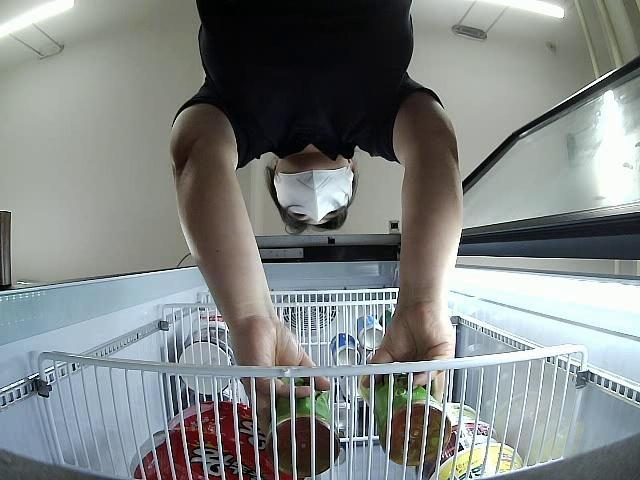19_17cha: (364, 374, 452, 467), (266, 376, 342, 474)
